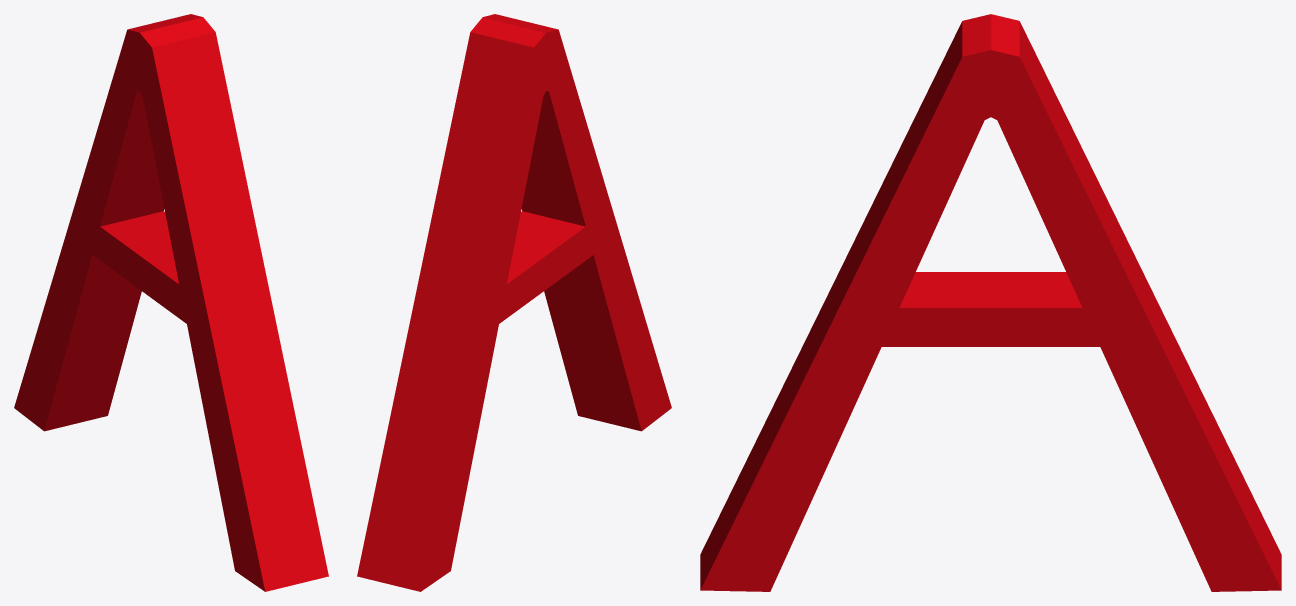
File: rankA.glb
3 views of the same model, side by side, from view 1: azimuth 30°, elevation 25°; view 2: azimuth 150°, elevation 25°; view 3: azimuth 270°, elevation 25° (orthographic). The views are drawn at different scales.
Visible parts, largest first — view 1: Cube.001; view 2: Cube.001; view 3: Cube.001.
Boxes of the visible parts, left/top/right/bottom form: Cube.001: left=14, top=14, right=328, bottom=591; Cube.001: left=357, top=14, right=671, bottom=591; Cube.001: left=700, top=14, right=1281, bottom=591.
Bounding box in the file's own units: 0.2929 × 2.06 × 2.
